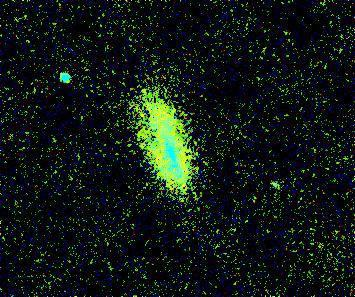star: (127, 101, 157, 131)
